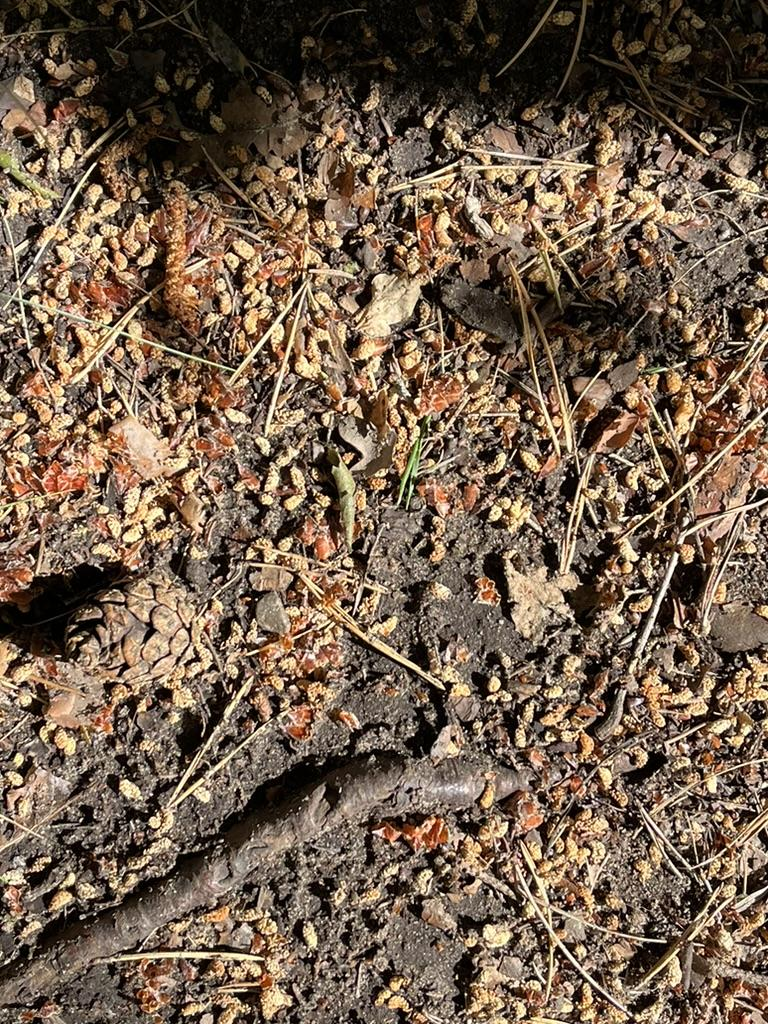pine: (58, 563, 218, 708)
